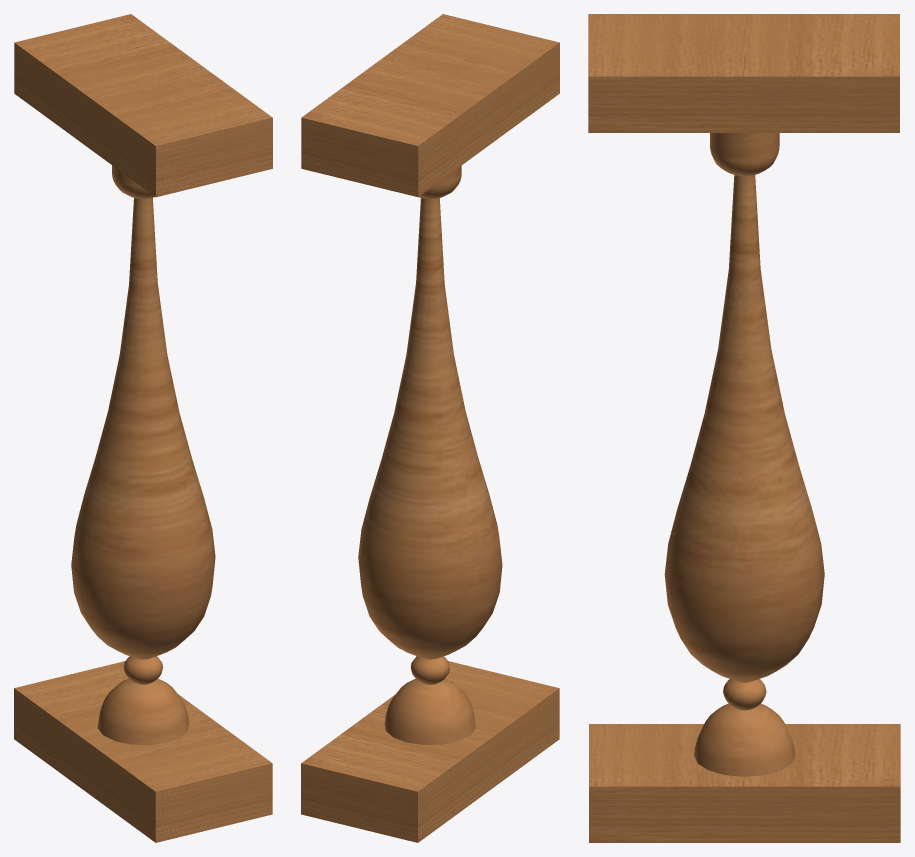
The model's file is railing.FBX.
3 views of the same model, side by side, from view 1: azimuth 30°, elevation 25°; view 2: azimuth 150°, elevation 25°; view 3: azimuth 270°, elevation 25° (orthographic). The views are drawn at different scales.
Parts seen in each view (by area): view 1: Object002; view 2: Object002; view 3: Object002.
Part boxes in pixels (<box>): Object002: <box>14,14,272,842</box>; Object002: <box>301,14,559,842</box>; Object002: <box>588,14,900,842</box>.
Bounding box in the file's own units: 20.09 × 106 × 39.17.
1 material, 1 textured.
